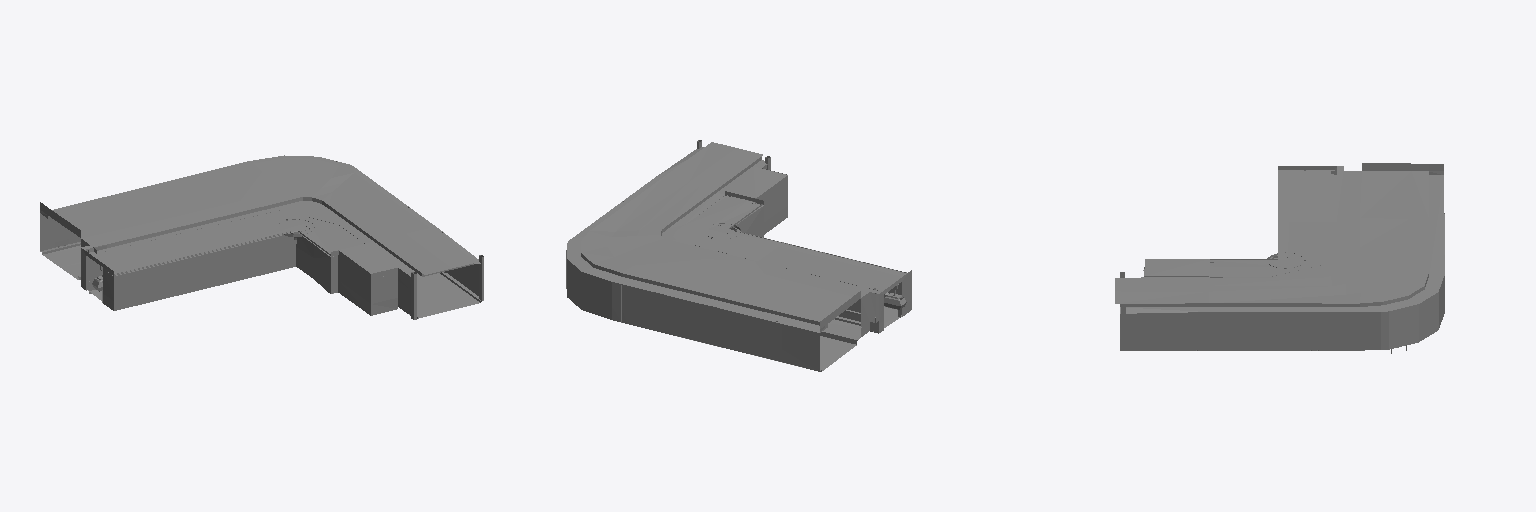
3 views of the same model, side by side, from view 1: azimuth 30°, elevation 25°; view 2: azimuth 150°, elevation 25°; view 3: azimuth 270°, elevation 25° (orthographic).
Visible parts, largest first — view 1: E_SnowA_Terrain_01; view 2: E_SnowA_Terrain_01; view 3: E_SnowA_Terrain_01.
Boxes of the visible parts, box(x1,y1,x2,y2) form: E_SnowA_Terrain_01: box(40, 155, 483, 319); E_SnowA_Terrain_01: box(566, 140, 911, 371); E_SnowA_Terrain_01: box(1115, 163, 1444, 353).
Size of the model in its own units: 232 by 41.59 by 223.